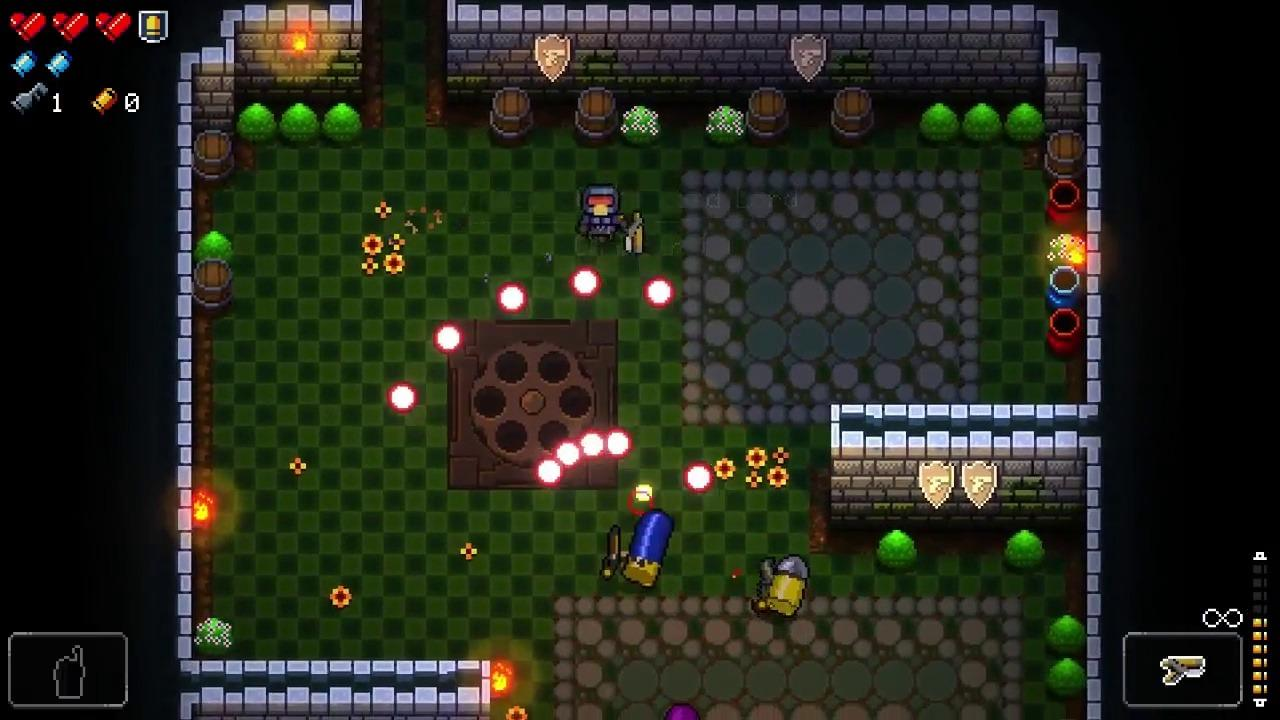blue_shotgun_kin: (622, 507, 676, 588)
bullet: (433, 323, 464, 354), (497, 284, 528, 314), (388, 383, 418, 413), (685, 462, 713, 494), (579, 430, 608, 460), (572, 267, 599, 298), (607, 428, 632, 461), (535, 458, 563, 487), (646, 278, 673, 307), (555, 441, 582, 468)
bullet_kin: (766, 554, 810, 617)
player: (580, 183, 621, 241)
teleporter: (447, 318, 619, 490)
